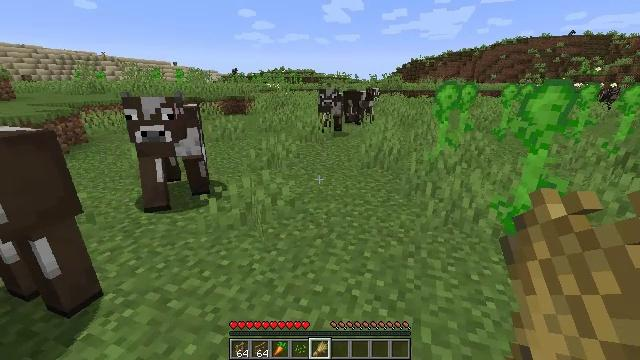cow: (0, 128, 103, 321), (123, 94, 204, 211), (343, 86, 383, 123), (317, 90, 342, 131), (598, 83, 619, 108)
